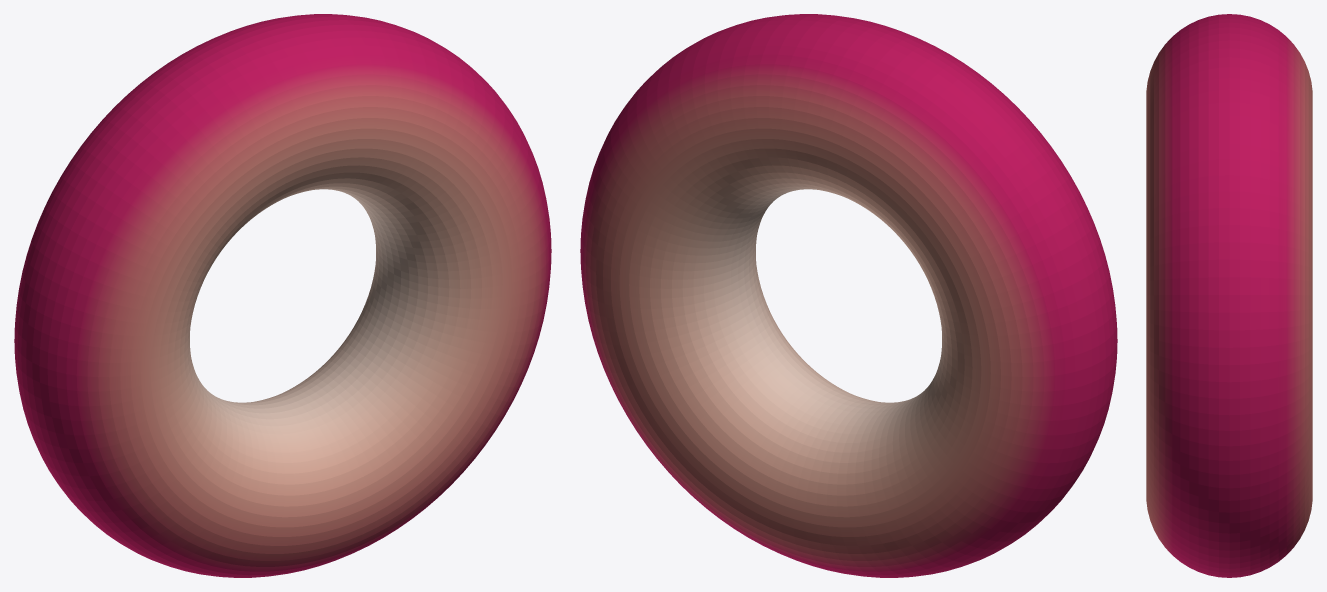
The picture shows the model from 3 angles, left to right: view 1: azimuth 30°, elevation 25°; view 2: azimuth 150°, elevation 25°; view 3: azimuth 270°, elevation 25°; orthographic projection. The views are drawn at different scales.
Visible parts, largest first — view 1: world; view 2: world; view 3: world.
Boxes of the visible parts, x1=… form: world: x1=14, y1=14, x2=551, y2=577; world: x1=580, y1=14, x2=1117, y2=577; world: x1=1146, y1=14, x2=1312, y2=577.
Bounding box in the file's own units: 28.4 × 28.4 × 8.38.
